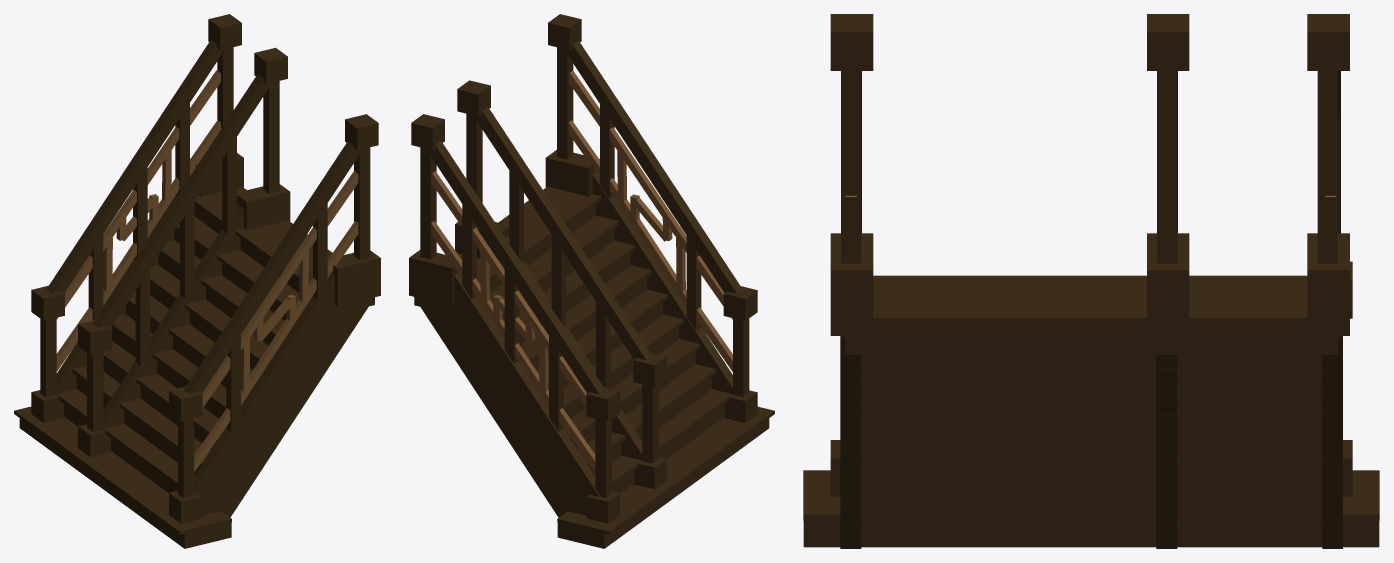
Rendered from stairs1 full 1.fbx.
3 views of the same model, side by side, from view 1: azimuth 30°, elevation 25°; view 2: azimuth 150°, elevation 25°; view 3: azimuth 270°, elevation 25° (orthographic). The views are drawn at different scales.
Visible parts, largest first — view 1: Cube.179, Cube.118, Cube.109, Cube.123, Cube.124, Cube.125, Cube.121, Cube.120, Cube.119, Cube.113, Cube.126, Cube.116 (+15 smaller); view 2: Cube.179, Cube.122, Cube.118, Cube.123, Cube.109, Cube.113, Cube.125, Cube.120, Cube.110, Cube.119, Cube.115, Cube.121 (+14 smaller); view 3: Cube.179, Cube.107, Cube.109, Cube.125, Cube.128, Cube.099, Cube.129, Cube.124, Cube.102, Cube.098, Cube.100, Cube.101 (+7 smaller).
Part boxes in pixels (box(x1,y1,x2,y2)): Cube.179: box(14, 19, 380, 548); Cube.118: box(93, 74, 268, 327); Cube.109: box(98, 204, 243, 430); Cube.123: box(46, 40, 221, 293); Cube.124: box(237, 184, 290, 230); Cube.125: box(263, 81, 279, 193); Cube.121: box(135, 263, 150, 365); Cube.120: box(180, 195, 194, 297); Cube.119: box(222, 132, 236, 233); Cube.113: box(87, 352, 103, 431); Cube.126: box(254, 47, 287, 83); Cube.116: box(133, 167, 147, 260); Cube.179: box(409, 14, 774, 548); Cube.122: box(414, 273, 600, 517); Cube.118: box(473, 106, 651, 359); Cube.123: box(426, 141, 605, 394); Cube.109: box(505, 236, 646, 462); Cube.113: box(642, 384, 658, 463); Cube.125: box(466, 113, 482, 202); Cube.120: box(551, 235, 566, 327); Cube.110: box(595, 419, 611, 497); Cube.119: box(509, 171, 523, 262); Cube.115: box(549, 336, 563, 431); Cube.121: box(596, 302, 610, 388); Cube.179: box(803, 14, 1379, 548); Cube.107: box(1174, 275, 1323, 354); Cube.109: box(1156, 355, 1177, 548); Cube.125: box(1157, 71, 1177, 263); Cube.128: box(1317, 71, 1337, 263); Cube.099: box(1138, 514, 1359, 547); Cube.129: box(1307, 233, 1349, 335); Cube.124: box(1147, 233, 1189, 335); Cube.102: box(1178, 436, 1319, 459); Cube.098: box(1178, 504, 1319, 526); Cube.100: box(1178, 481, 1319, 503); Cube.101: box(1178, 459, 1319, 481).
Bounding box in the file's own units: 1287 × 2183 × 1762.
